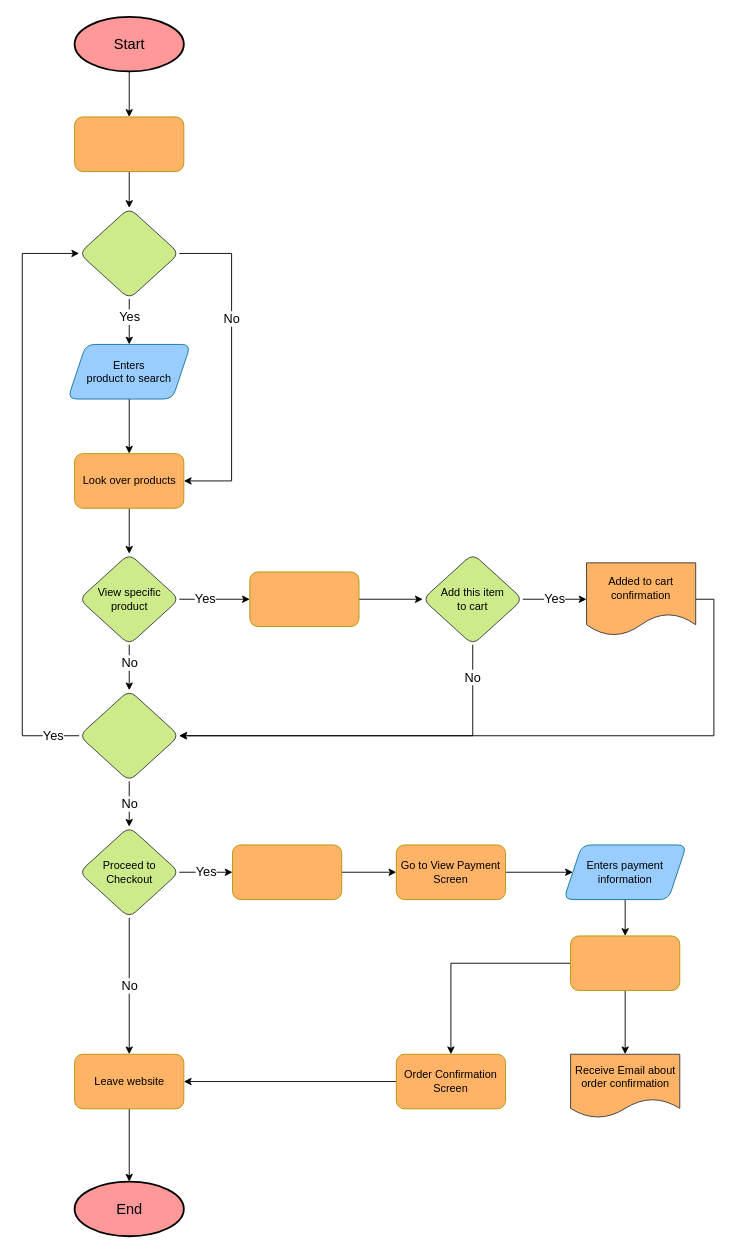
The diagram is 737 pixels wide and 1252 high, and some of its shapes have lost their labels. Here are the shapes that lost their labels. From the top down, the centre of each, then its label:
At point (129, 144): "User enters the website".
At point (128, 253): "Search for product".
At point (304, 599): "Product's webpage is opened".
At point (128, 735): "Continue Shopping".
At point (287, 872): "User reaches View Cart Screen".
At point (625, 963): "Pay the order".
